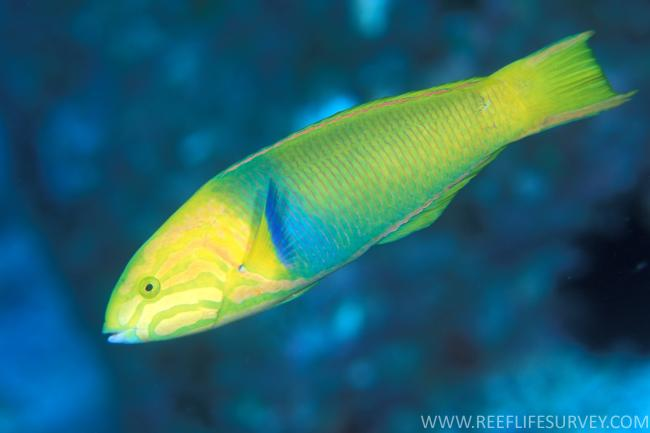fish: (100, 29, 639, 345)
